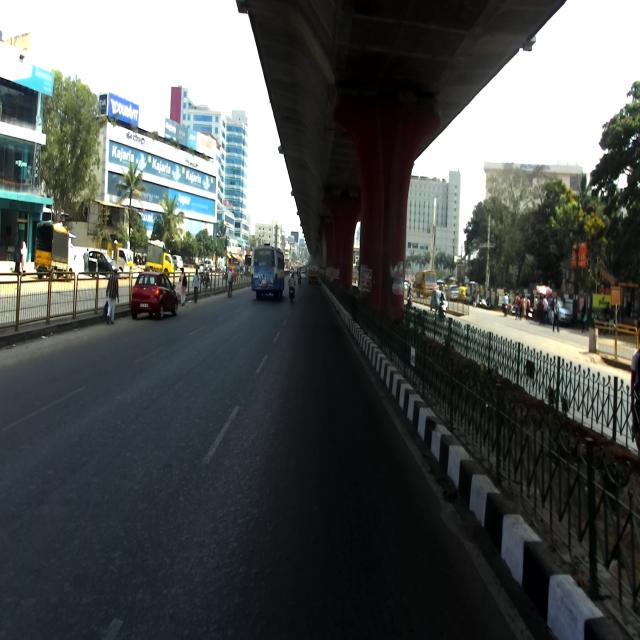car ahead at: (130, 273, 180, 327)
